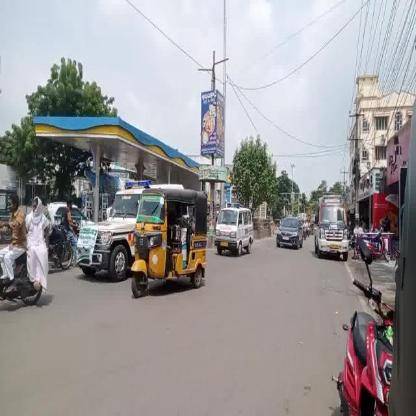priority: (71, 186, 135, 286), (314, 193, 350, 263)
